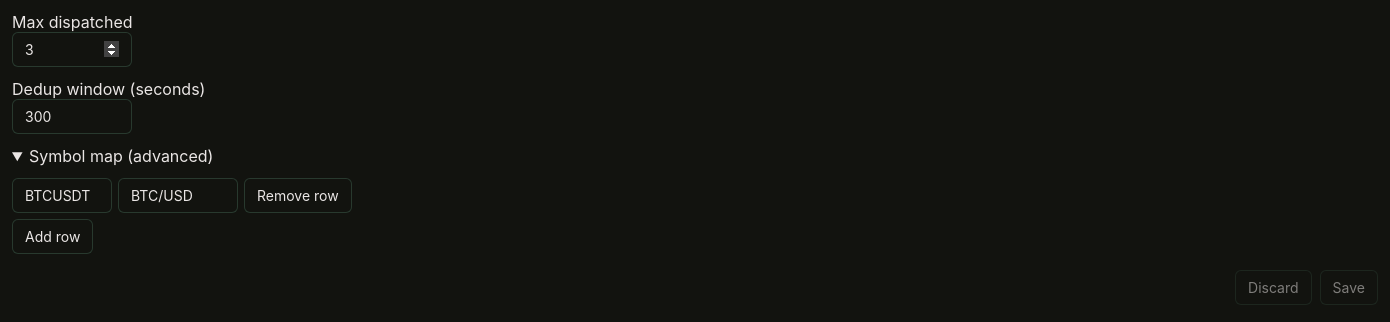
Test: GlobalConfigForm › enables Save on any change
Replace the text in the number field labelled "Max dispatched" with "5" at (72, 50), box x1=12 y1=32 x2=132 y2=67
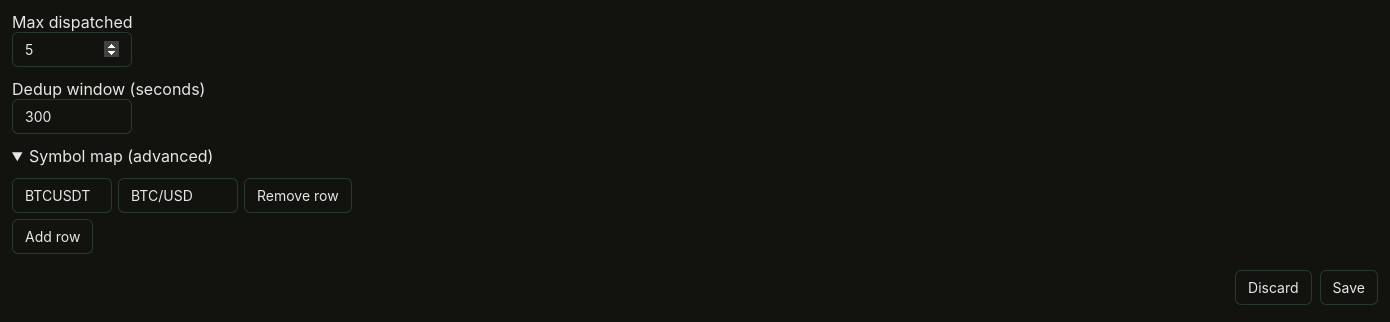
Now the button "Save" is enabled, box x1=1320 y1=270 x2=1378 y2=305
